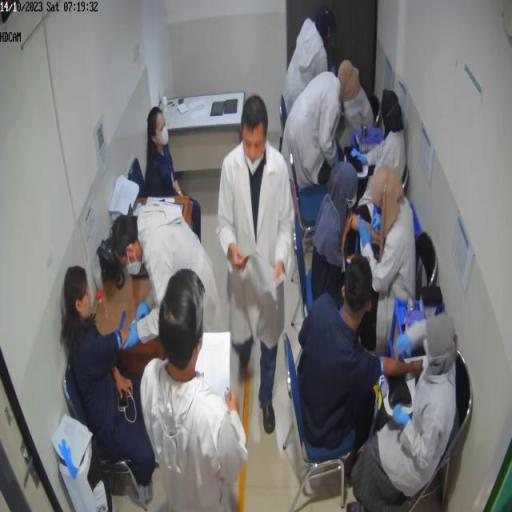person: (296, 256, 456, 509), (217, 97, 297, 440), (141, 269, 249, 509), (62, 265, 159, 494), (351, 308, 459, 511), (112, 206, 227, 333), (283, 63, 375, 194), (359, 166, 417, 355), (312, 162, 361, 311), (353, 89, 408, 198), (283, 7, 337, 116), (145, 108, 188, 203)
